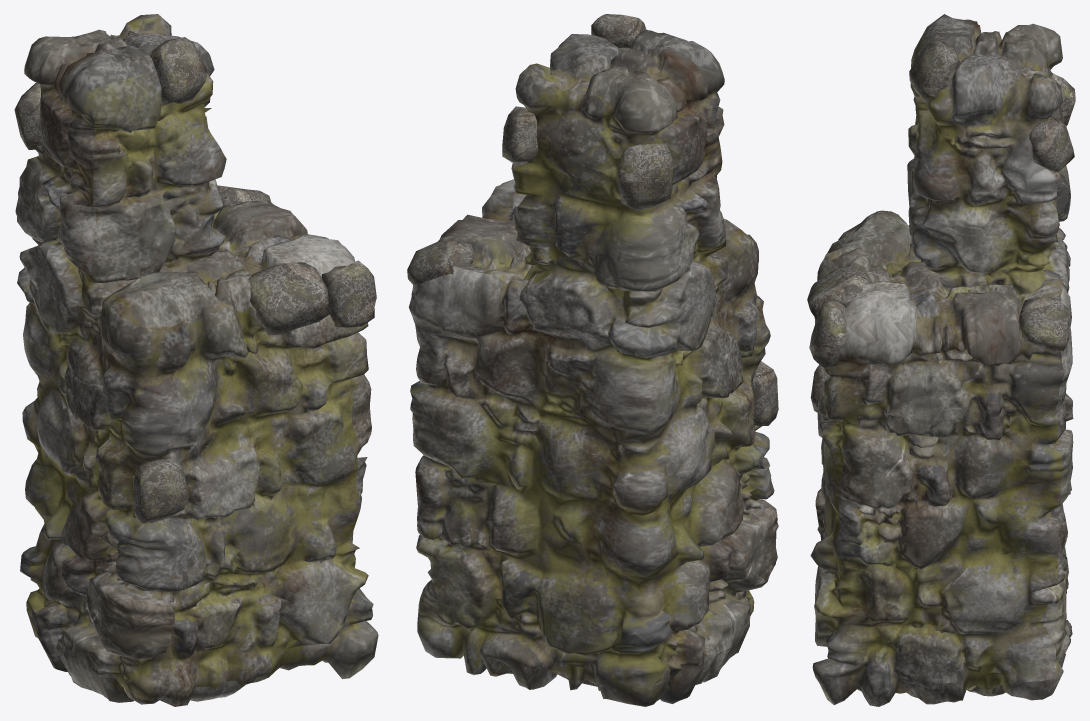
Rendered from SM_Wall_Stone_Corner_01.fbx.
The picture shows the model from 3 angles, left to right: view 1: azimuth 30°, elevation 25°; view 2: azimuth 150°, elevation 25°; view 3: azimuth 270°, elevation 25°; orthographic projection. The views are drawn at different scales.
Visible parts, largest first — view 1: SM_Wall_Stone_Corner_01_LOD0; view 2: SM_Wall_Stone_Corner_01_LOD0; view 3: SM_Wall_Stone_Corner_01_LOD0.
Boxes of the visible parts, left/top/right/bottom form: SM_Wall_Stone_Corner_01_LOD0: left=14, top=14, right=378, bottom=706; SM_Wall_Stone_Corner_01_LOD0: left=407, top=14, right=778, bottom=706; SM_Wall_Stone_Corner_01_LOD0: left=807, top=14, right=1075, bottom=706.
Bounding box in the file's own units: 139 × 126 × 314.
